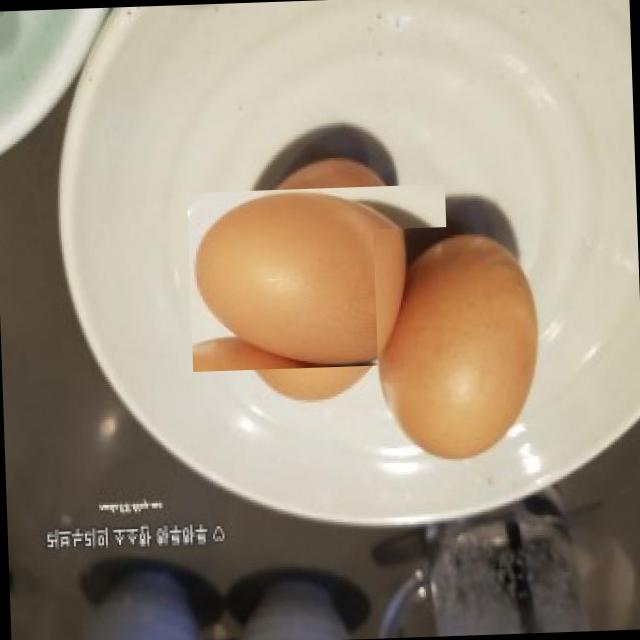eggs: (205, 164, 432, 391), (374, 222, 544, 462)
